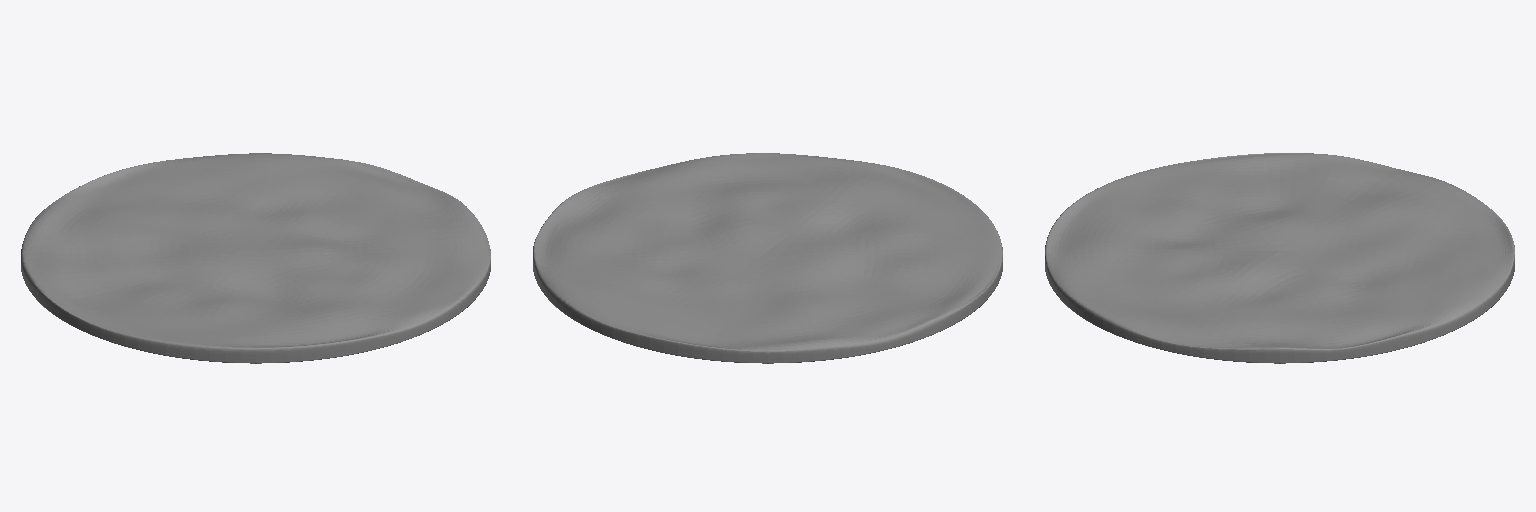
The model's file is circularGrass.obj.
The picture shows the model from 3 angles: view 1: azimuth 30°, elevation 25°; view 2: azimuth 150°, elevation 25°; view 3: azimuth 270°, elevation 25°; orthographic projection.
Parts seen in each view (by area): view 1: grass; view 2: grass; view 3: grass.
Boxes of the visible parts, box(x1,y1,x2,y2) form: grass: box(21, 153, 490, 363); grass: box(533, 153, 1002, 363); grass: box(1045, 153, 1514, 363).
Bounding box in the file's own units: 143 × 5.77 × 143.